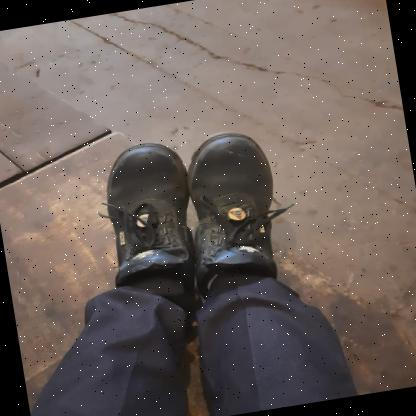bota: (94, 132, 205, 284), (180, 124, 290, 272)
